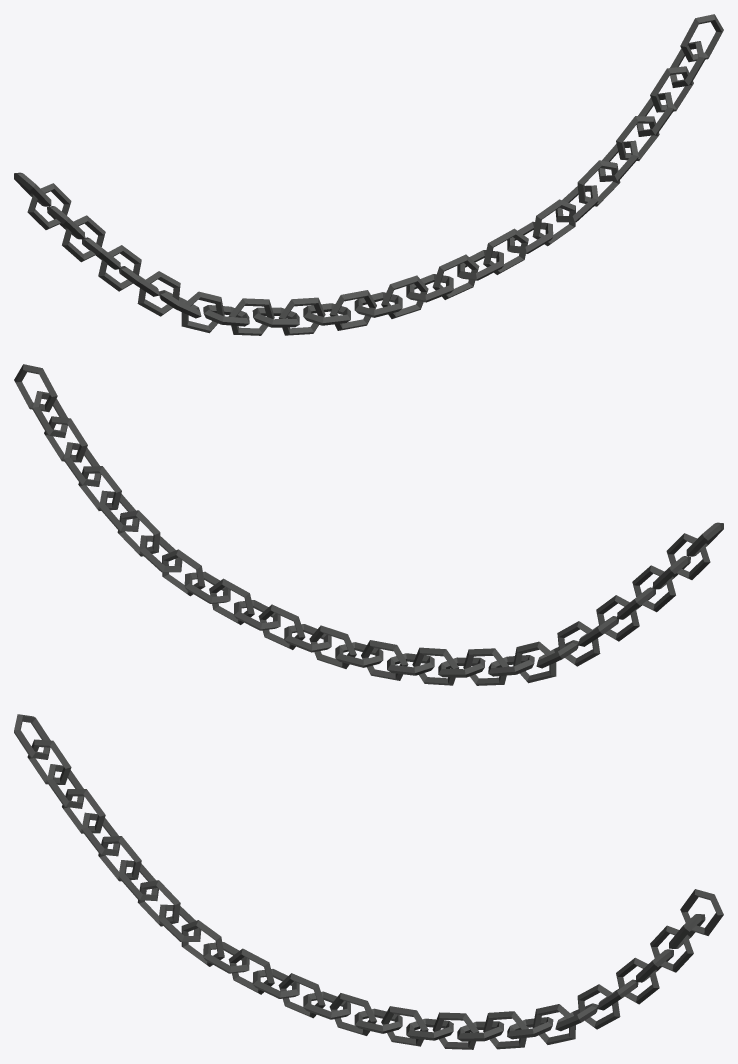
The model's file is Chain_001.fbx.
The picture shows the model from 3 angles, top to bottom: view 1: azimuth 30°, elevation 25°; view 2: azimuth 150°, elevation 25°; view 3: azimuth 330°, elevation 25°; orthographic projection.
Parts seen in each view (by area): view 1: Chain_001; view 2: Chain_001; view 3: Chain_001.
Part boxes in pixels (left/top/right/bottom): Chain_001: left=14, top=14, right=723, bottom=335; Chain_001: left=14, top=364, right=723, bottom=685; Chain_001: left=14, top=714, right=723, bottom=1049.
Size of the model in its own units: 4.53 by 1.45 by 0.2178.
